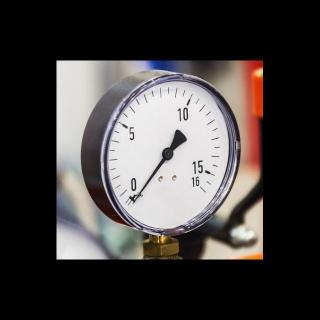gauge: (82, 62, 246, 248), (189, 175, 211, 197), (124, 188, 144, 208), (162, 147, 174, 161), (129, 198, 137, 206)
